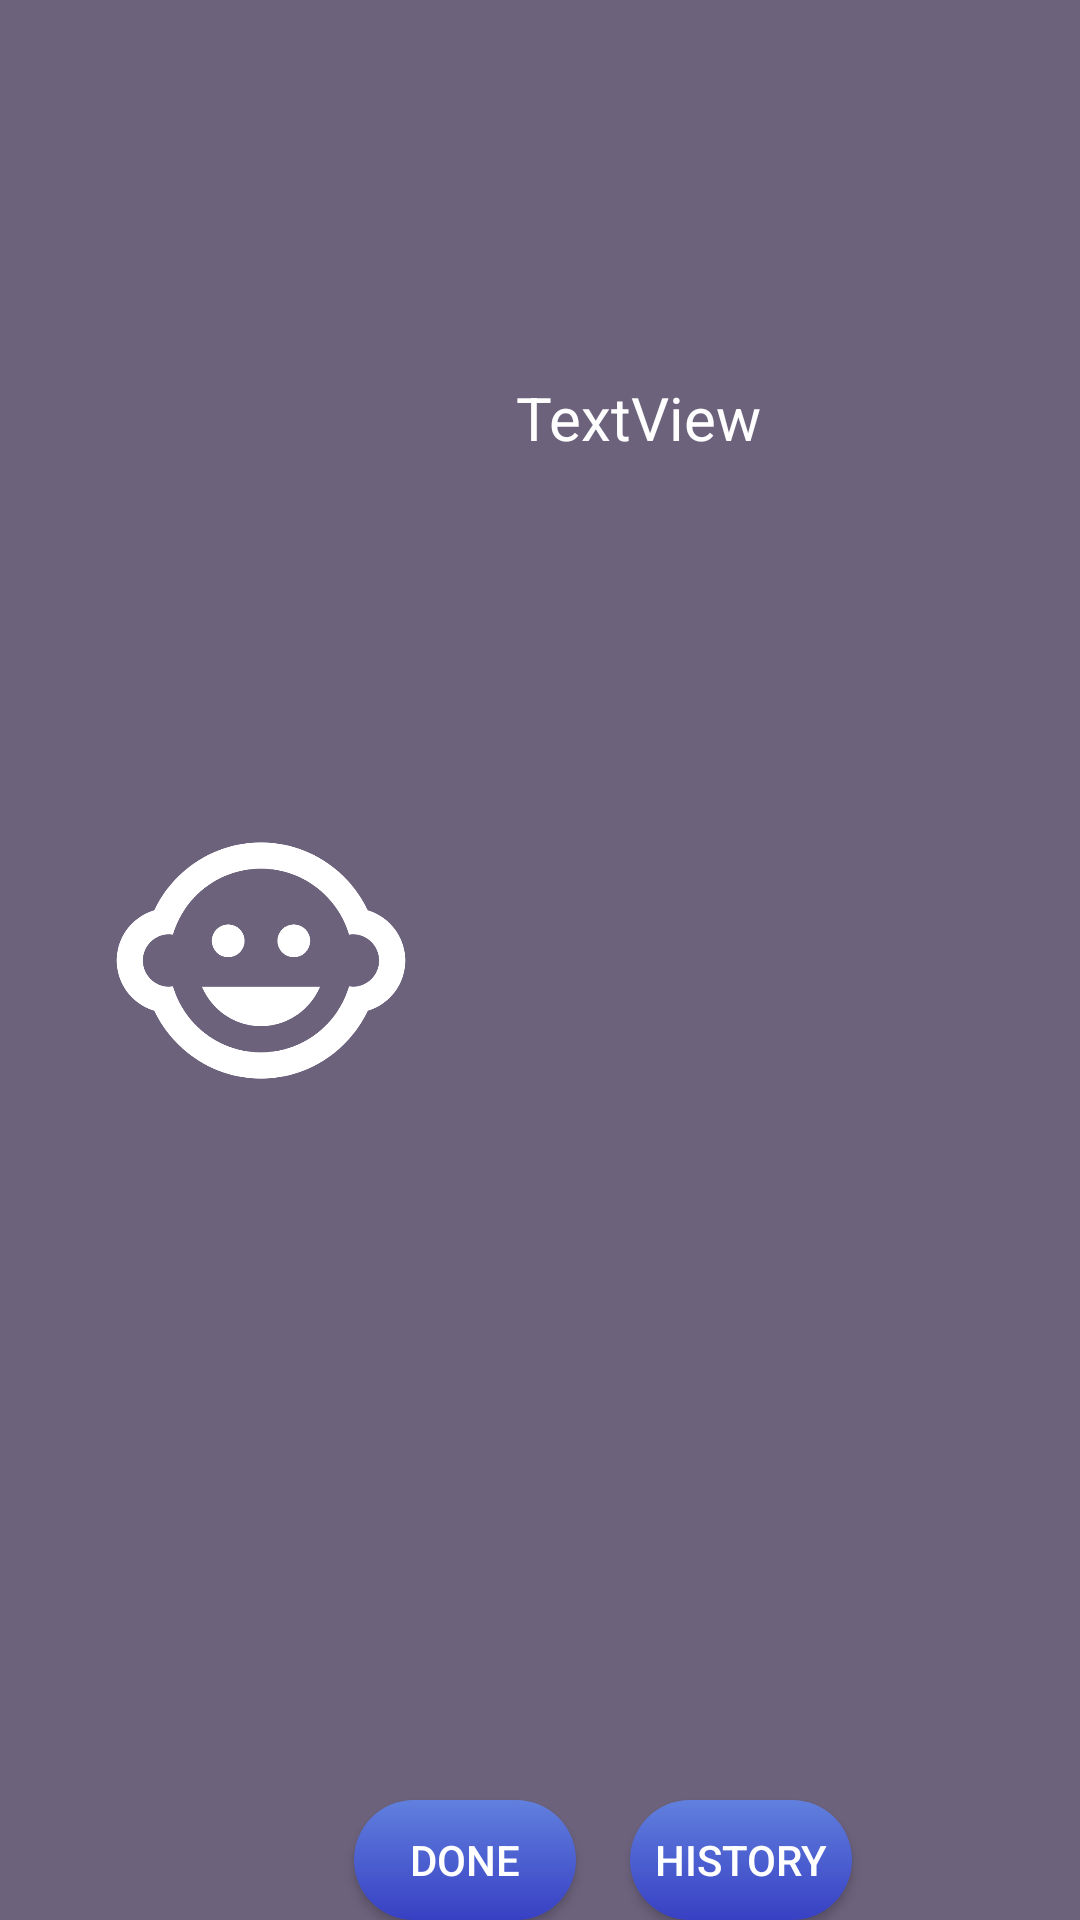

Screen size 1080x1920. Icon name, then its box in pixels as (x1, y1, x2, y2):
childimg: (116, 842, 406, 1079)
